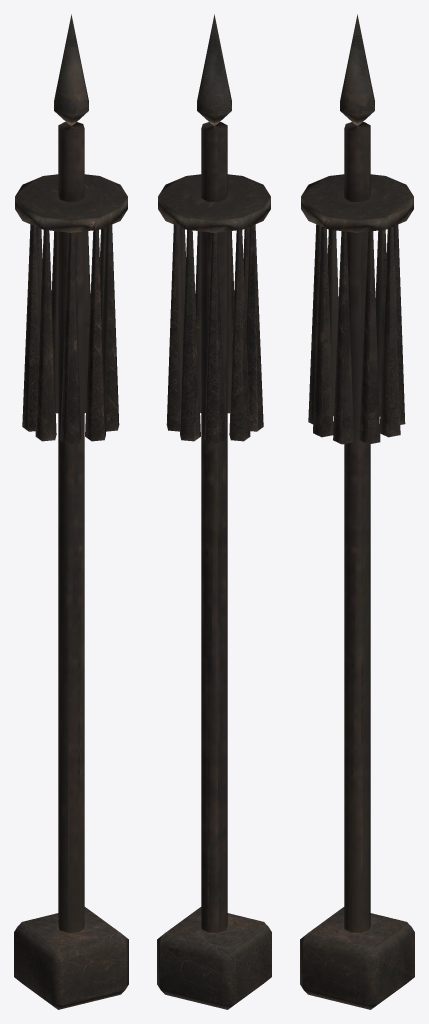
Rendered from tug_banner.glb.
3 renders of one model, left to right at view 1: azimuth 30°, elevation 25°; view 2: azimuth 150°, elevation 25°; view 3: azimuth 330°, elevation 25°, orthographic.
Visible parts, largest first — view 1: tug_banner; view 2: tug_banner; view 3: tug_banner.
Part boxes in pixels (x1=…): tug_banner: x1=14, y1=14, x2=128, y2=1009; tug_banner: x1=157, y1=14, x2=271, y2=1009; tug_banner: x1=300, y1=14, x2=414, y2=1009.
Bounding box in the file's own units: 0.5 × 4.75 × 0.5.
Materials: 1 (1 with a texture image).
